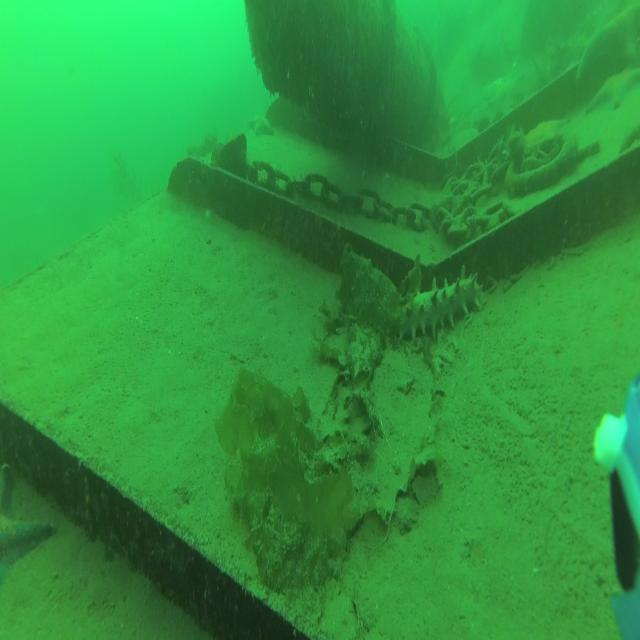holothurian: (389, 265, 485, 341)
starfish: (586, 67, 640, 115), (522, 119, 571, 151), (248, 114, 274, 137)
